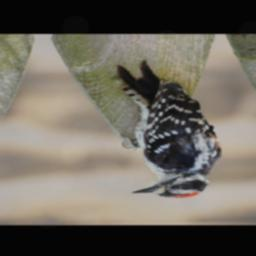Woodpecker: (116, 58, 229, 200)
